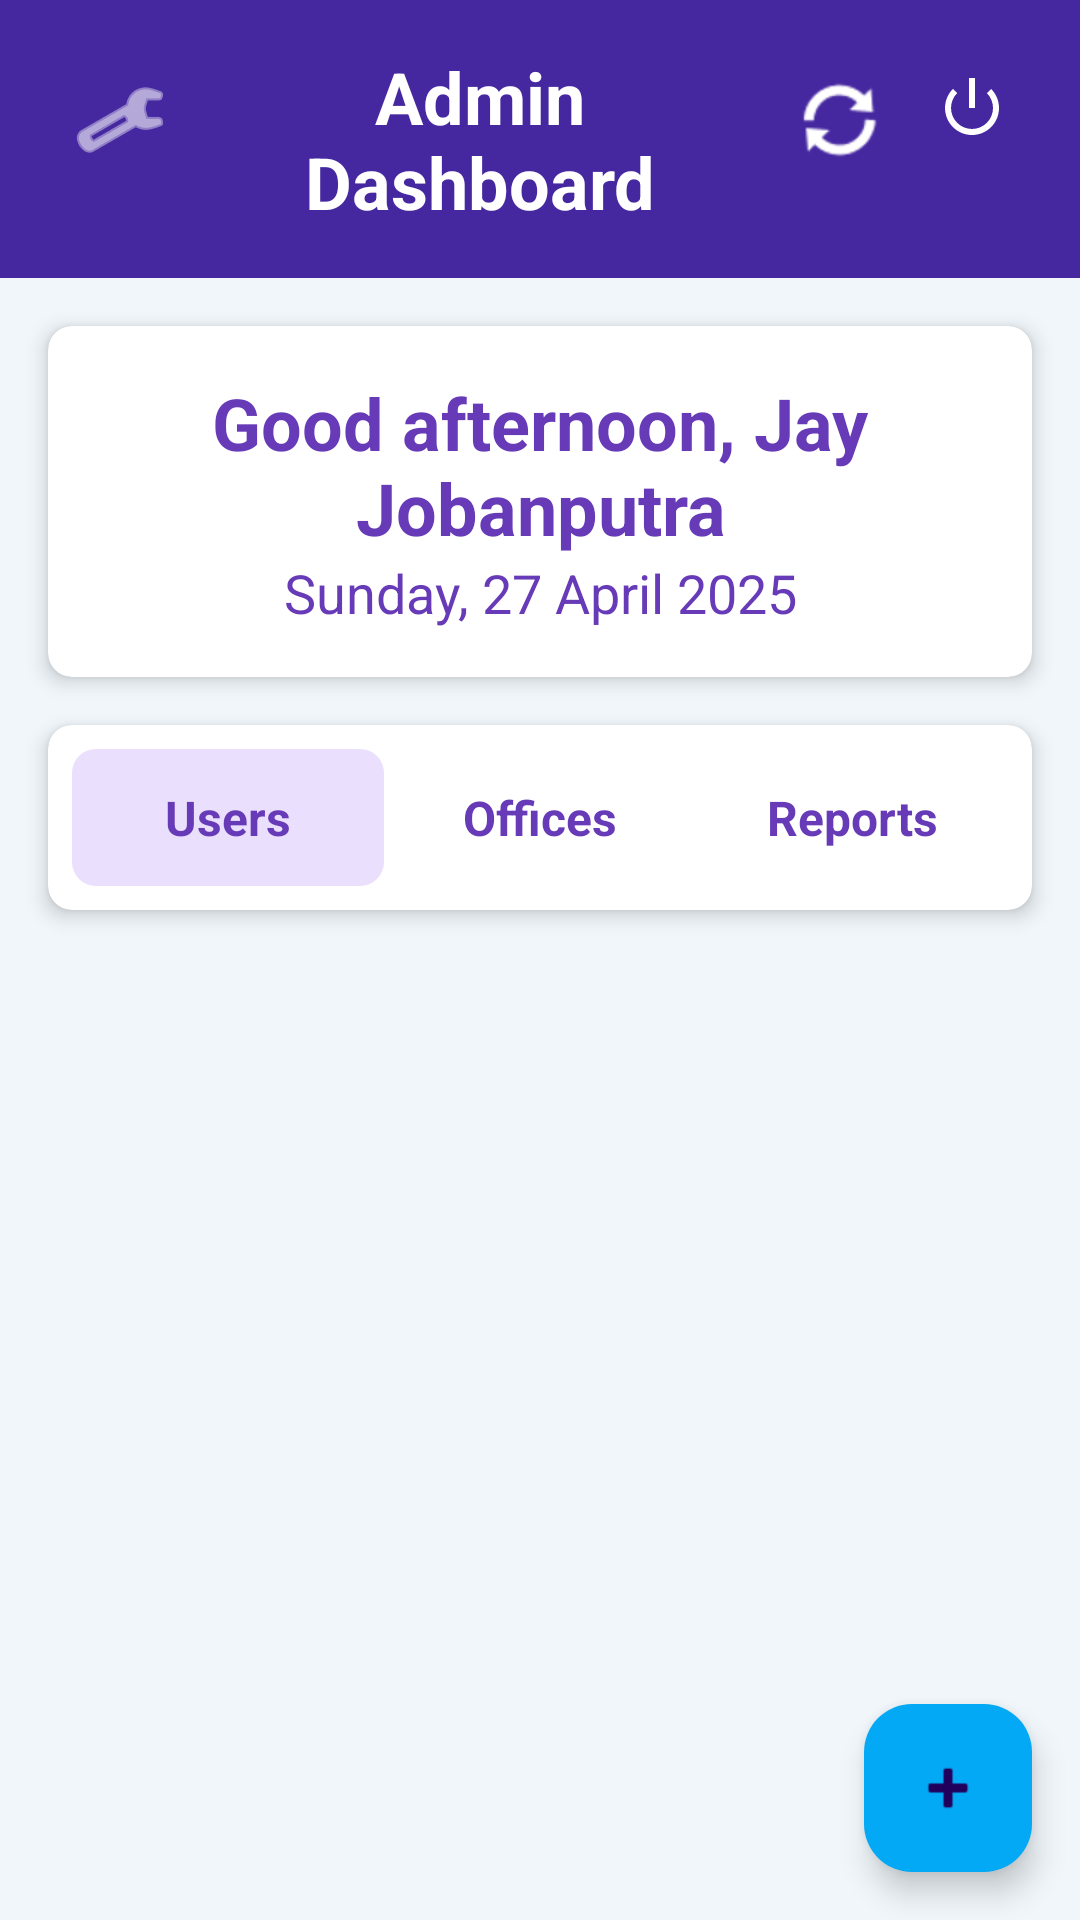

Point at icon controls on the screen. Image size 1080w x 1920h, points as (x,y).
Add: (948,1788)
Refresh: (840,120)
Settings: (120,120)
